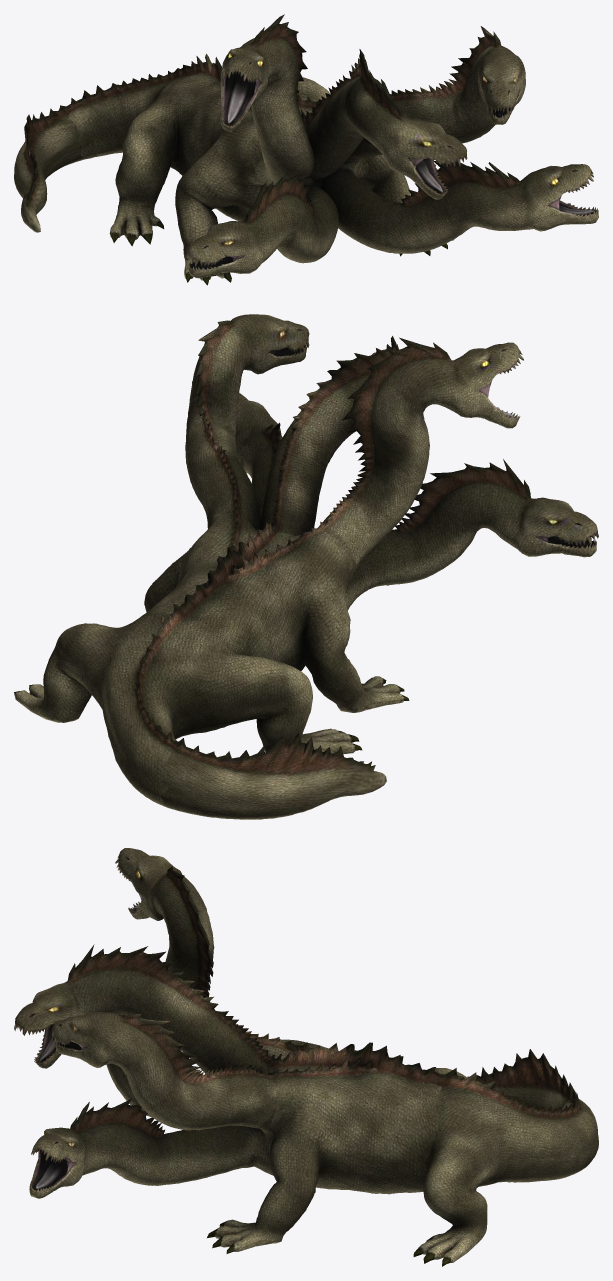
File: MZ4250 - Hydra 2025.glb
3 views of the same model, one above another, from view 1: azimuth 30°, elevation 25°; view 2: azimuth 150°, elevation 25°; view 3: azimuth 270°, elevation 25° (orthographic). The views are drawn at different scales.
Parts seen in each view (by area): view 1: ORGANIC BASE SPHERE.001; view 2: ORGANIC BASE SPHERE.001; view 3: ORGANIC BASE SPHERE.001.
Boxes of the visible parts, x1,y1,x2,y2 form: ORGANIC BASE SPHERE.001: (14, 14, 598, 285); ORGANIC BASE SPHERE.001: (14, 314, 598, 819); ORGANIC BASE SPHERE.001: (14, 848, 598, 1266).
Size of the model in its own units: 184 by 135 by 249.
1 material, 1 textured.
